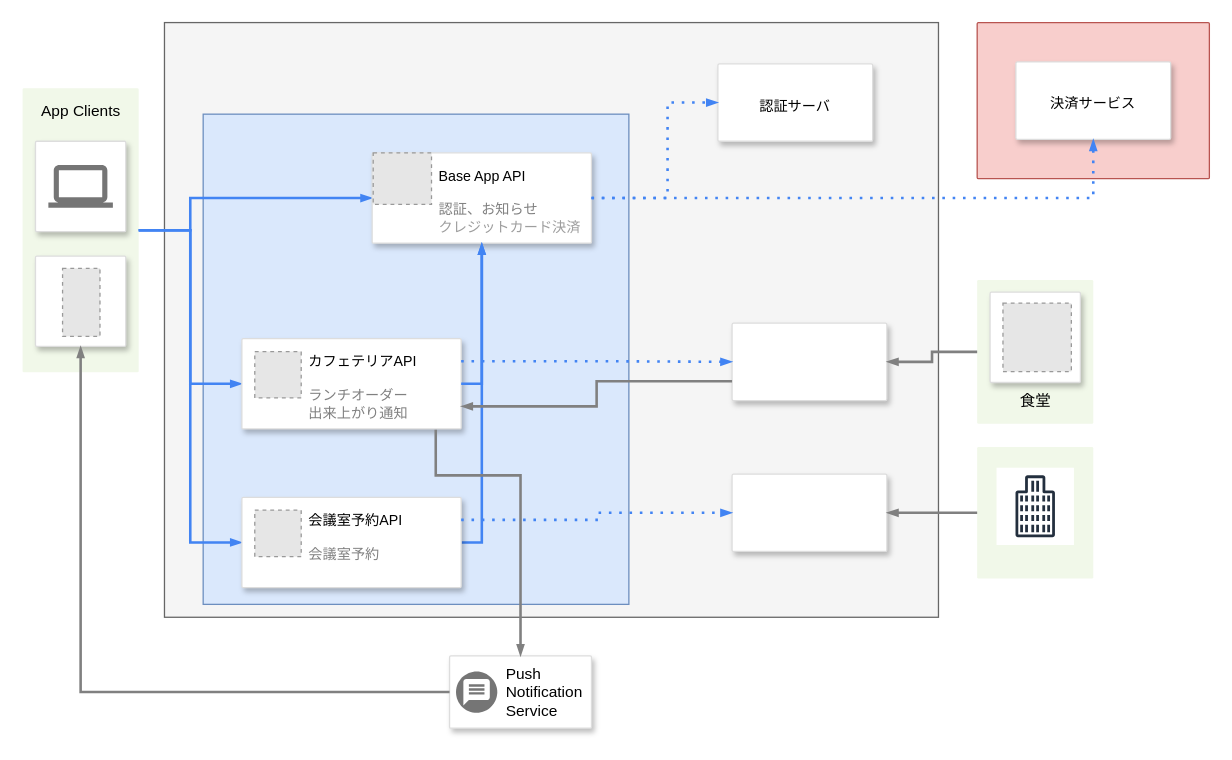
The diagram is 1232 pixels wide and 760 high, and some of its shapes have lost their labels. Grey dashed boxes stand in for pictures. Each missing label, with the centre of its shape:
オフィス: point 1034,505
予約システム: point 810,514
食堂システム: point 810,363
